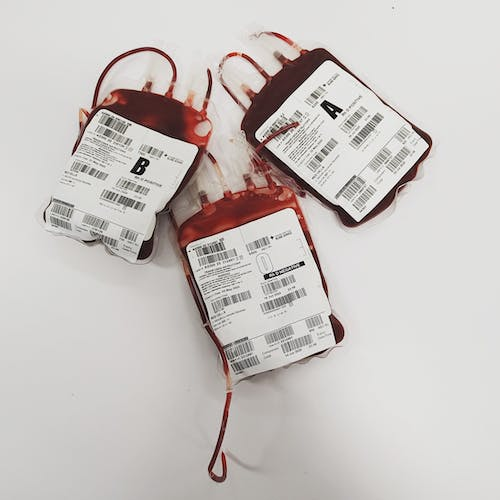blood: (164, 148, 347, 483), (217, 30, 433, 228), (39, 44, 214, 263)
